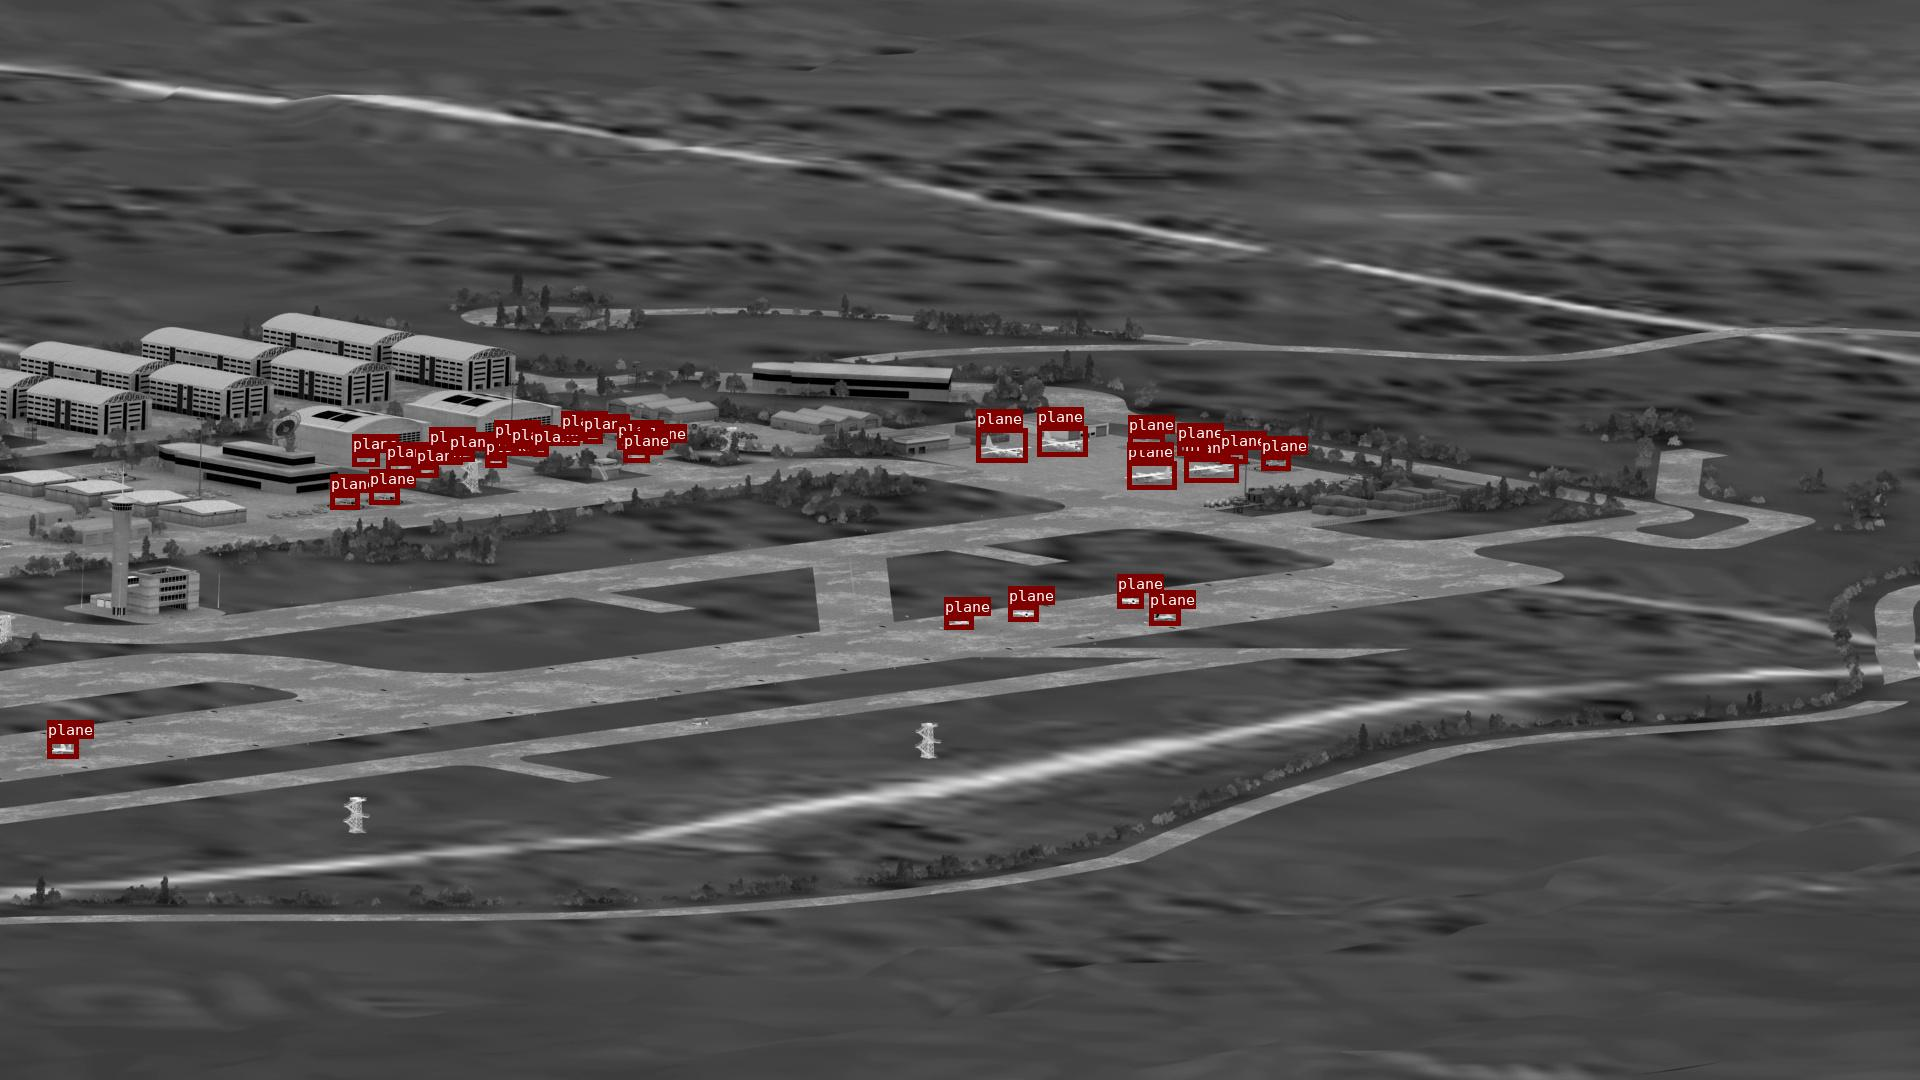plane: (976, 429, 1027, 462), (1036, 426, 1087, 456), (1184, 458, 1238, 483), (1127, 462, 1176, 489), (47, 738, 78, 758), (1127, 434, 1164, 448), (1149, 609, 1180, 625), (1007, 605, 1038, 621), (369, 488, 400, 504), (330, 493, 359, 509), (1261, 455, 1290, 469), (944, 616, 973, 629), (1117, 593, 1143, 608), (1178, 442, 1207, 455), (1220, 450, 1247, 463), (386, 462, 415, 473), (352, 454, 378, 465), (622, 450, 649, 462), (429, 446, 452, 458), (415, 465, 438, 477), (448, 451, 473, 462), (560, 430, 583, 440), (640, 443, 662, 454), (485, 456, 506, 467), (512, 444, 533, 455), (583, 433, 603, 443), (617, 439, 637, 448), (495, 439, 510, 450), (533, 446, 549, 456)
